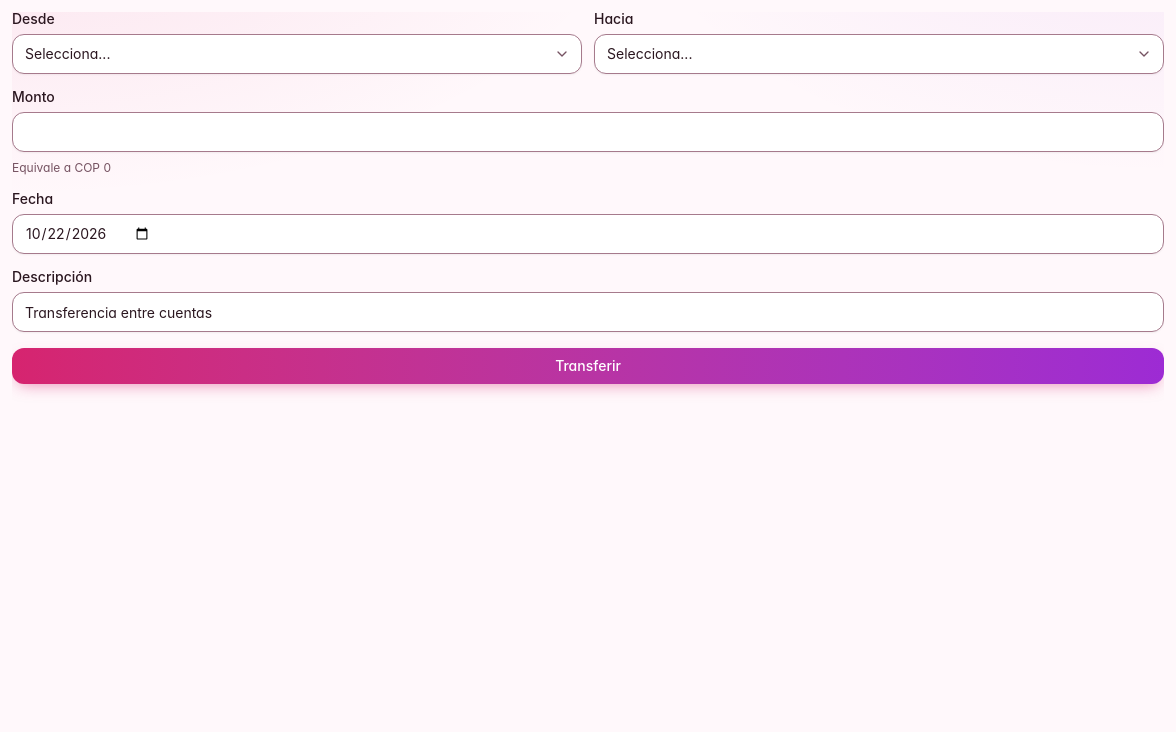
Test case: TransferForm › monedas distintas › pide el monto recibido en la moneda de destino y explica que no se convierte
Select "Efectivo" in the dropdown labelled "Desde" at (297, 54), box x1=12 y1=34 x2=582 y2=74
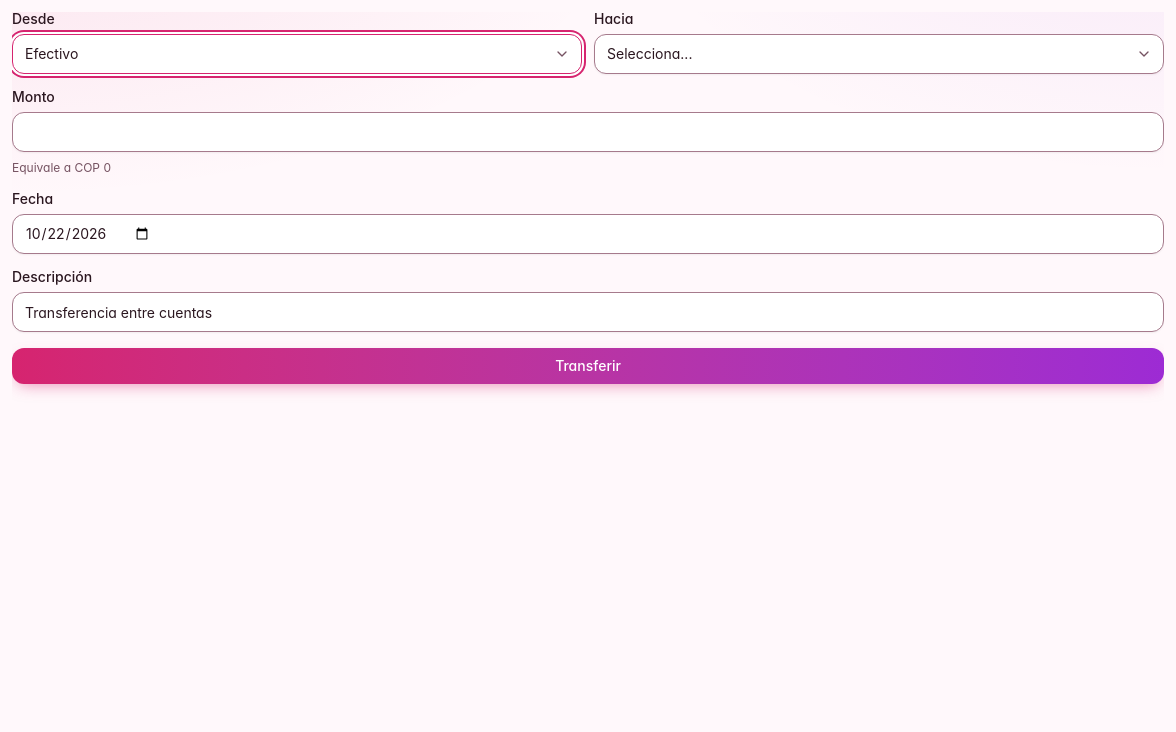
Select "Cuenta USD" in the dropdown labelled "Hacia" at (879, 54), box x1=594 y1=34 x2=1164 y2=74
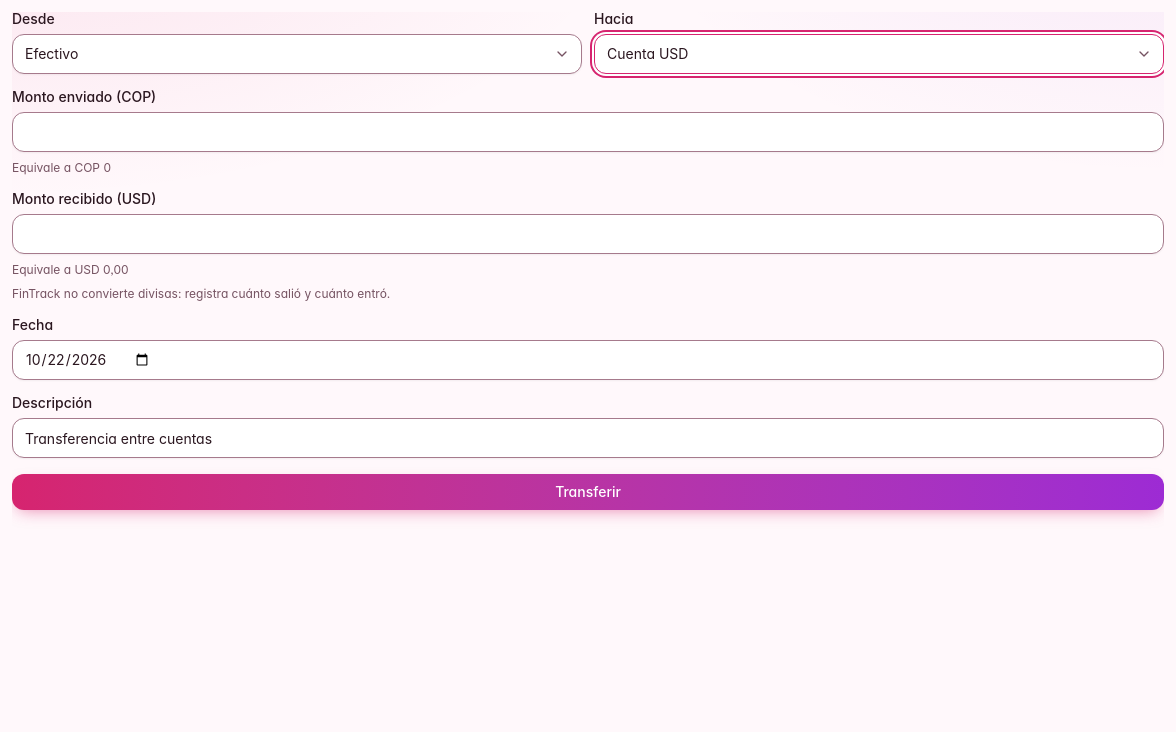
Expected: the field labelled "Monto enviado (COP)" is shown, x1=12 y1=112 x2=1164 y2=152
Now the field labelled "Monto recibido (USD)" is shown, box x1=12 y1=214 x2=1164 y2=254
Now the text "FinTrack no convierte divisas: registra cuánto salió y cuánto entró." is shown, box x1=12 y1=286 x2=390 y2=301
